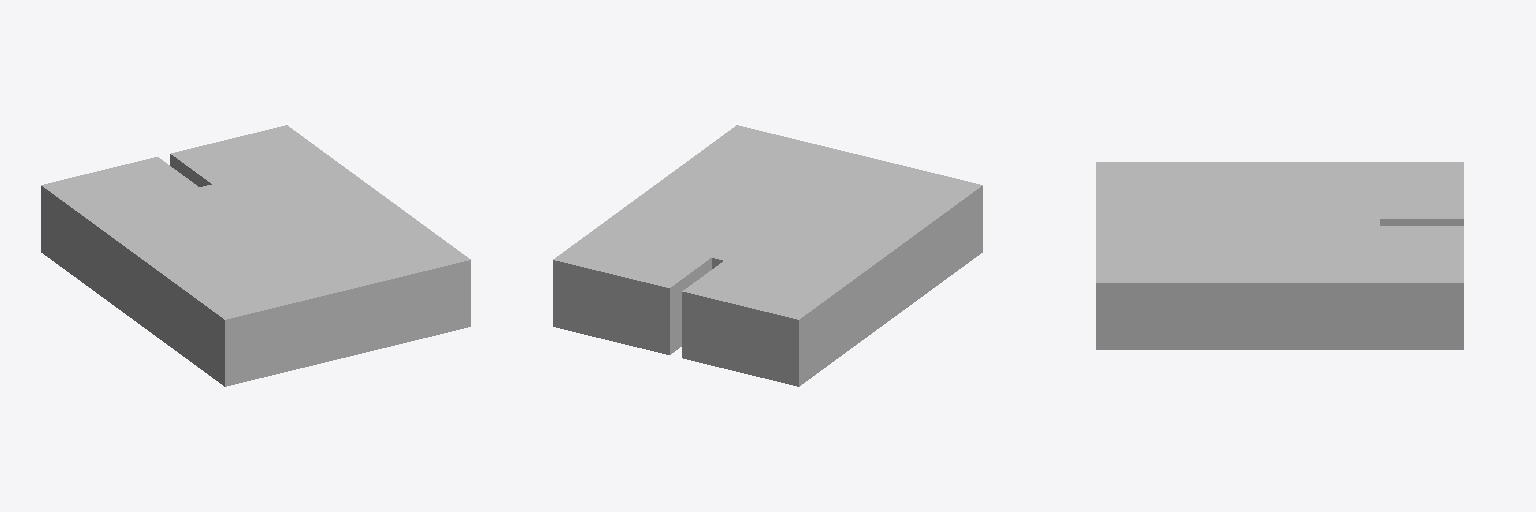
Rendered from Room.obj.
The picture shows the model from 3 angles: view 1: azimuth 30°, elevation 25°; view 2: azimuth 150°, elevation 25°; view 3: azimuth 270°, elevation 25°; orthographic projection.
Size of the model in its own units: 10 by 2.6 by 12.96.